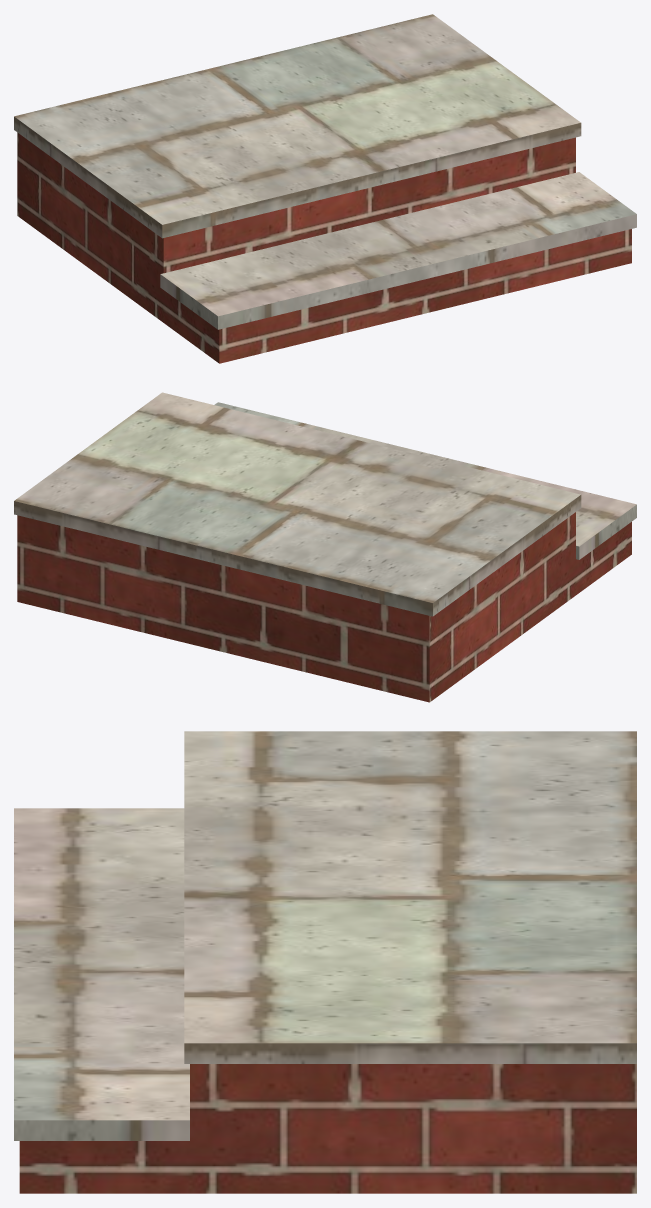
The model's file is back_steps.glb.
3 views of the same model, one above another, from view 1: azimuth 30°, elevation 25°; view 2: azimuth 150°, elevation 25°; view 3: azimuth 270°, elevation 25° (orthographic). The views are drawn at different scales.
Visible parts, largest first — view 1: back_steps_cill, back_steps_brick; view 2: back_steps_cill, back_steps_brick; view 3: back_steps_cill, back_steps_brick.
Part boxes in pixels (x1,y1,x2,y2): back_steps_cill: [14, 14, 636, 329]; back_steps_brick: [17, 132, 631, 363]; back_steps_cill: [14, 392, 636, 616]; back_steps_brick: [17, 512, 631, 702]; back_steps_cill: [14, 731, 636, 1140]; back_steps_brick: [19, 1064, 636, 1193].
Bounding box in the file's own units: 1.3 × 0.297 × 1.1.
2 materials, 2 textured.
